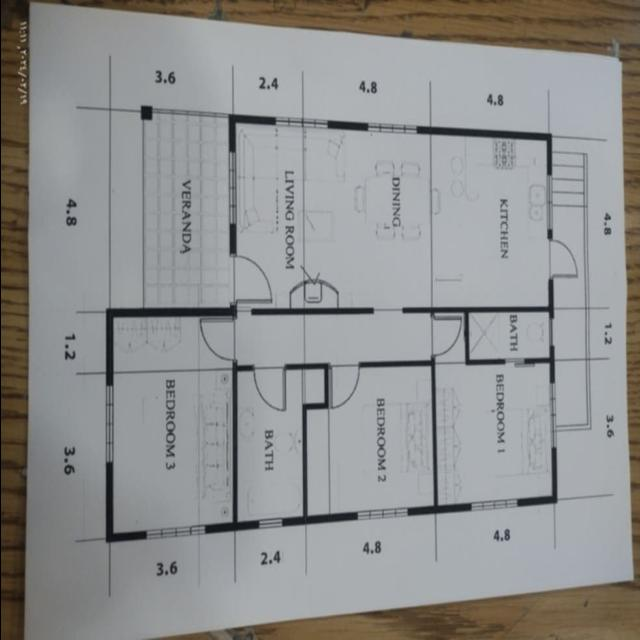column: (222, 302, 242, 326), (136, 102, 156, 125), (226, 513, 242, 540), (100, 528, 116, 554), (428, 498, 444, 523), (102, 302, 118, 324), (540, 126, 556, 147), (224, 108, 240, 129), (422, 118, 436, 140), (423, 302, 438, 322), (546, 490, 560, 510), (544, 298, 556, 316)
